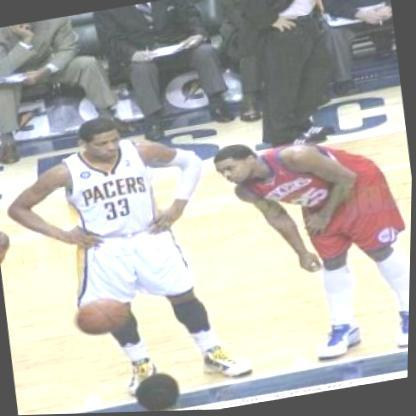basketball: (67, 290, 138, 345)
